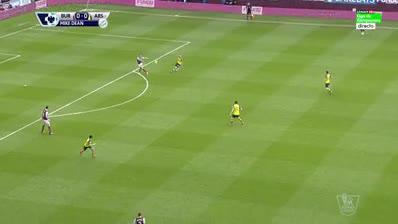futbol: (153, 59, 159, 66)
player: (39, 104, 57, 138), (229, 100, 247, 128), (80, 133, 98, 160), (323, 69, 336, 96), (136, 53, 151, 76), (171, 53, 186, 73), (130, 210, 150, 223)
